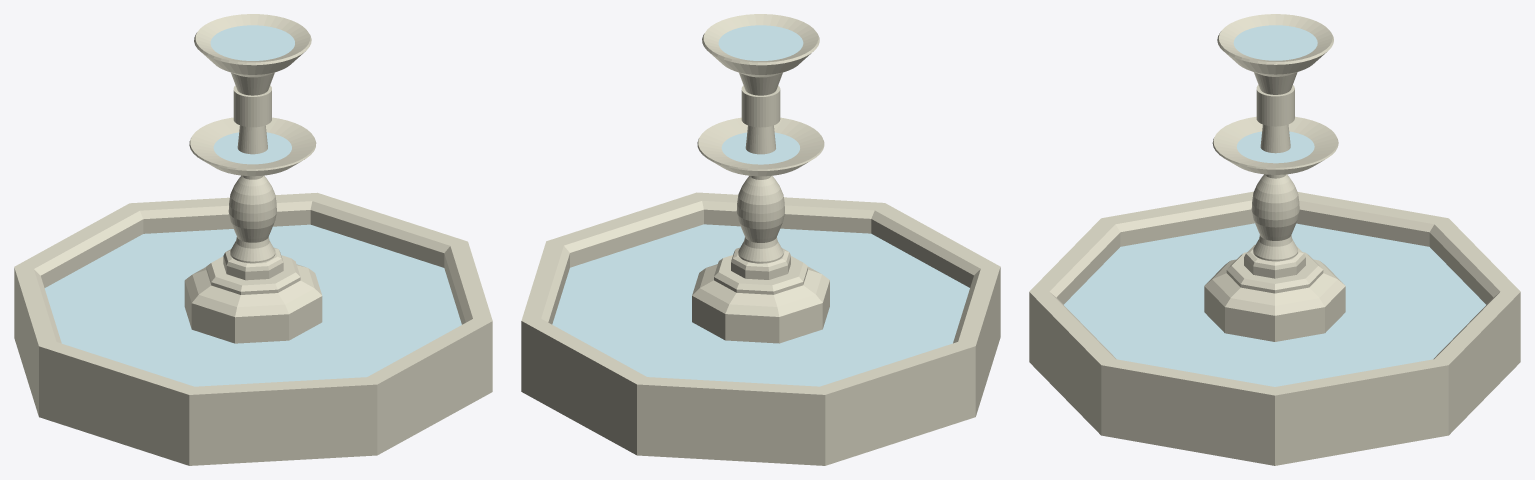
File: FountainV2.fbx
3 views of the same model, side by side, from view 1: azimuth 30°, elevation 25°; view 2: azimuth 150°, elevation 25°; view 3: azimuth 270°, elevation 25° (orthographic).
Parts seen in each view (by area): view 1: Cylinder.003; view 2: Cylinder.003; view 3: Cylinder.003.
Part boxes in pixels (left/top/right/bottom): Cylinder.003: left=14, top=14, right=492, bottom=465; Cylinder.003: left=521, top=14, right=1000, bottom=465; Cylinder.003: left=1029, top=14, right=1520, bottom=465.
Size of the model in its own units: 603 by 439 by 603.
